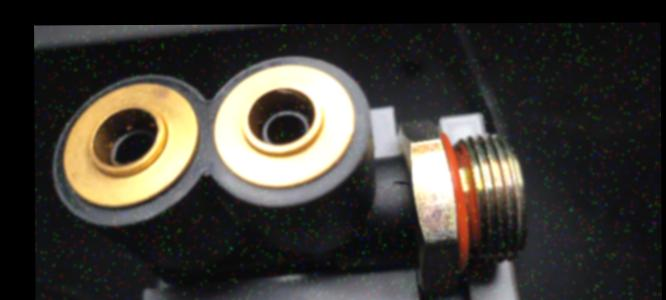craze: (386, 176, 413, 187)
joint line: (377, 184, 385, 192)
